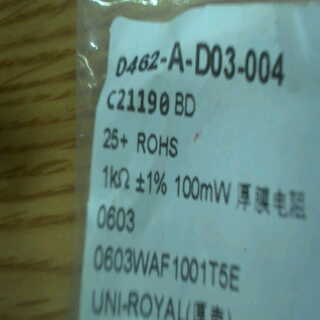1kR: (97, 159, 136, 195)
